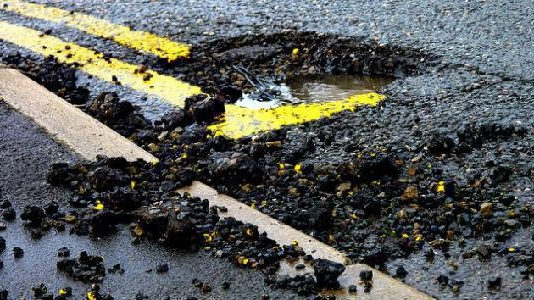pothole: (151, 27, 443, 103)
